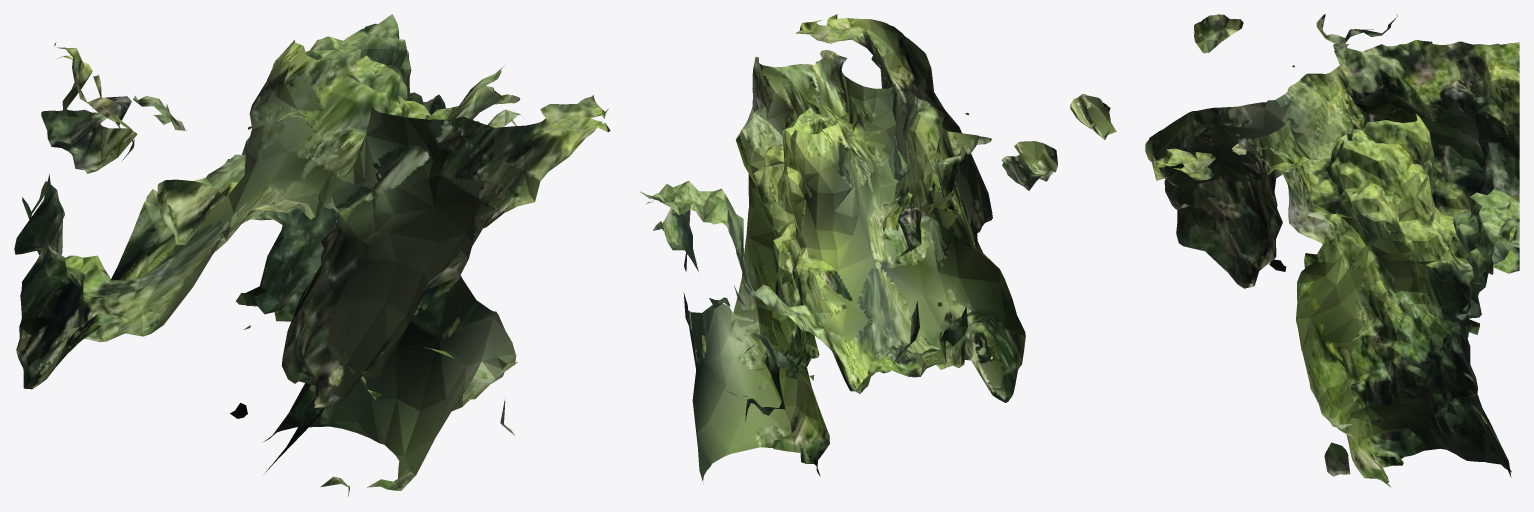
3 views of the same model, side by side, from view 1: azimuth 30°, elevation 25°; view 2: azimuth 150°, elevation 25°; view 3: azimuth 270°, elevation 25° (orthographic). The views are drawn at different scales.
Size of the model in its own units: 26.11 by 26.11 by 25.82.
Materials: 6 (6 with a texture image).
